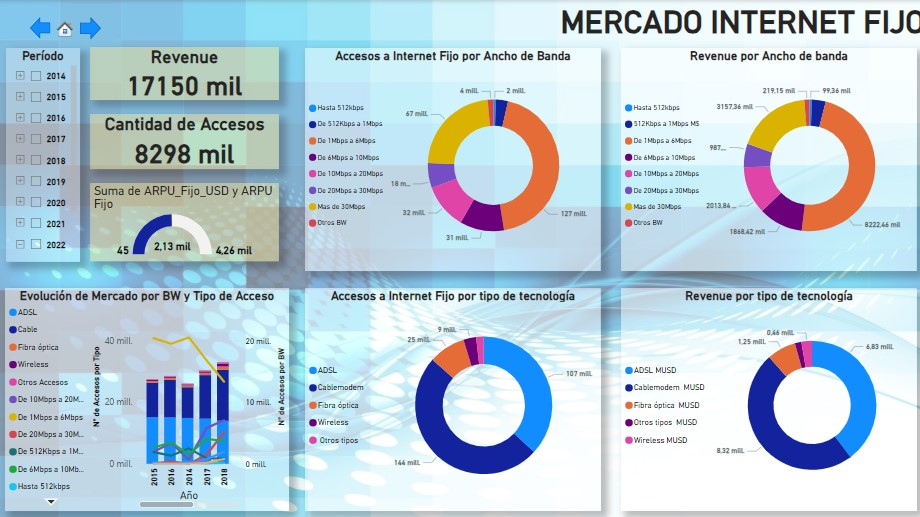

The page's visual inventory and layout, read from the dashboard file:
{"tool":"powerbi","page":{"name":"Big Picture","canvas":[1280,720],"ordinal":2},"visuals":[{"type":"shape","box":[168.6,54.3,255.7,135.7],"z":0},{"type":"donutChart","title":"Accesos a Internet Fijo por tipo de tecnología","fields":{"Y":["Sum(Consolida_TrimMS.ADSL)","Sum(Consolida_TrimMS.Cablemodem)","Sum(Consolida_TrimMS.Fibra_optica)","Sum(Consolida_TrimMS.Wireless)","Sum(Consolida_TrimMS.Otros_tipos_acceso)"]},"box":[433.7,397.1,407.4,306.8],"z":1000},{"type":"donutChart","title":"Revenue por tipo de tecnología","fields":{"Y":["Sum(Consolida_TrimMS.ADSL$)","Sum(Consolida_TrimMS.Cablemodem$)","Sum(Consolida_TrimMS.Fibra_optica$)","Sum(Consolida_TrimMS.Otros_tipos_acceso$)","Sum(Consolida_TrimMS.Wireless$)"]},"box":[857.3,397,407.4,306.8],"z":2000},{"type":"textbox","box":[334,0,946,86],"z":3000},{"type":"donutChart","title":"Accesos a Internet Fijo por Ancho de Banda","fields":{"Y":["Sum(Consolida_TrimMS.Hasta_512kbps)","Sum(Consolida_TrimMS.Entre512Kbps_y_1Mbps)","Sum(Consolida_TrimMS.Entre1Mbps_y_6Mbps)","Sum(Consolida_TrimMS.Entre6Mbps_y_10Mbps)","Sum(Consolida_TrimMS.Entre10Mbps_y_20Mbps)","Sum(Consolida_TrimMS.Entre20Mbps_y_30Mbps)","Sum(Consolida_TrimMS.Masde30Mbps)","Sum(Consolida_TrimMS.OTROS_BW)"]},"box":[434.1,66.3,407.4,307],"z":4000},{"type":"donutChart","title":"Revenue por Ancho de banda","fields":{"Y":["Sum(Consolida_TrimMS.Hasta_512kbps$)","Sum(Consolida_TrimMS.Entre512Kbps_y_1Mbps$)","Sum(Consolida_TrimMS.Entre1Mbps_y_6Mbps$)","Sum(Consolida_TrimMS.Entre6Mbps_y_10Mbps$)","Sum(Consolida_TrimMS.Entre10Mbps_y_20Mbps$)","Sum(Consolida_TrimMS.Entre20Mbps_y_30Mbps$)","Sum(Consolida_TrimMS.Masde30Mbps$)","Sum(Consolida_TrimMS.OTROS_BW$)"]},"box":[857.7,66.3,407.4,306.8],"z":5000},{"type":"card","title":"Revenue M° Fijo","fields":{"Values":["Sum(Consolida_TrimMS.Ingresos_InternetFijo_MUSD)"]},"box":[168.6,201.4,244.3,67.1],"z":7000},{"type":"lineStackedColumnComboChart","title":"Evolución de Mercado por BW y Tipo de Acceso","fields":{"Y":["Sum(Consolida_TrimMS.ADSL)","Sum(Consolida_TrimMS.Cablemodem)","Sum(Consolida_TrimMS.Fibra_optica)","Sum(Consolida_TrimMS.Wireless)","Sum(Consolida_TrimMS.Otros_tipos_acceso)"],"Category":["Consolida_TrimMS.Anio"],"Y2":["Sum(Consolida_TrimMS.Entre10Mbps_y_20Mbps)","Sum(Consolida_TrimMS.Entre1Mbps_y_6Mbps)","Sum(Consolida_TrimMS.Entre20Mbps_y_30Mbps)","Sum(Consolida_TrimMS.Entre512Kbps_y_1Mbps)","Sum(Consolida_TrimMS.Entre6Mbps_y_10Mbps)","Sum(Consolida_TrimMS.Hasta_512kbps)","Sum(Consolida_TrimMS.Masde30Mbps)","Sum(Consolida_TrimMS.OTROS_BW)"]},"box":[10.3,396.9,390.7,306.7],"z":8000},{"type":"shape","box":[44.2,23.1,27.9,29.9],"z":9000},{"type":"shape","box":[112.2,23.1,28.6,30.6],"z":10000},{"type":"image","box":[73.1,23.1,38.1,32],"z":11000},{"type":"card","title":"Revenue Móvil","fields":{"Values":["Sum(Consolida_TrimMS.VtaTrimMovil_MUSD)"]},"box":[168.6,292.9,244.3,67.1],"z":12000},{"type":"slicer","fields":{"Values":["Consolida_TrimMS.FechaTrimestre.Variación.Jerarquía de fechas.Año","Consolida_TrimMS.FechaTrimestre.Variación.Jerarquía de fechas.Trimestre"]},"box":[0,65.3,157.3,318.7],"z":13000},{"type":"card","title":" Accesos Fijos","fields":{"Values":["Sum(Consolida_TrimMS.Total Accesos Fijos)"]},"box":[168.6,85.7,244.3,67.1],"z":13500}]}

Visuals, with their boxes in screenshot pixels (x1, y1, x2, y2), scaled from the page's 1280x720 canvas onto the 920x517 screenshot:
shape: rect(121, 39, 305, 136)
"Accesos a Internet Fijo por tipo de tecnología" donutChart: rect(312, 285, 605, 505)
"Revenue por tipo de tecnología" donutChart: rect(616, 285, 909, 505)
textbox: rect(240, 0, 919, 62)
"Accesos a Internet Fijo por Ancho de Banda" donutChart: rect(312, 48, 605, 268)
"Revenue por Ancho de banda" donutChart: rect(616, 48, 909, 268)
"Revenue M° Fijo" card: rect(121, 145, 297, 193)
"Evolución de Mercado por BW y Tipo de Acceso" lineStackedColumnComboChart: rect(7, 285, 288, 505)
shape: rect(32, 17, 52, 38)
shape: rect(81, 17, 101, 39)
image: rect(53, 17, 80, 40)
"Revenue Móvil" card: rect(121, 210, 297, 258)
slicer - Consolida_TrimMS.FechaTrimestre.Variación.Jerarquía de fechas.Año x Consolida_TrimMS.FechaTrimestre.Variación.Jerarquía de fechas.Trimestre: rect(0, 47, 113, 276)
" Accesos Fijos" card: rect(121, 62, 297, 110)
